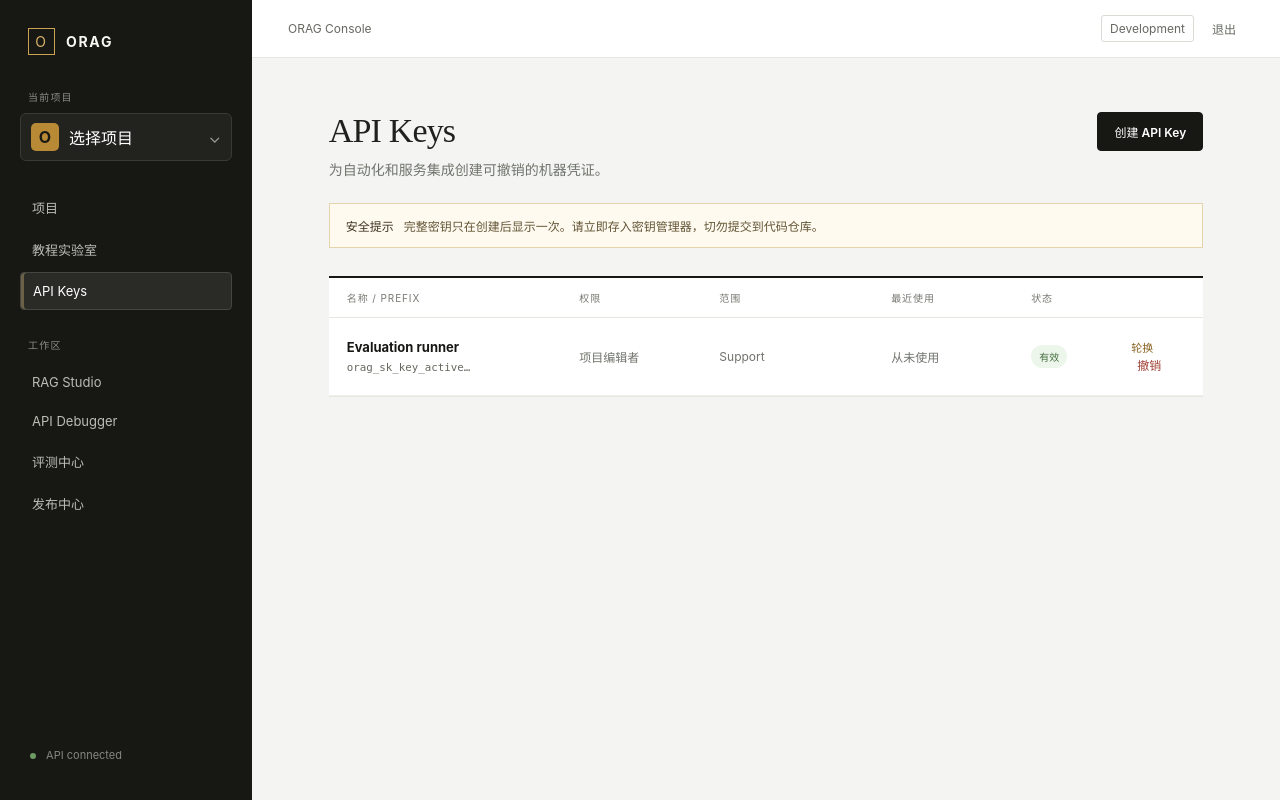
APIKeyList › shows a newly created secret once and clears it when the dialog closes
Click the button "创建 API Key".
click(1150, 132)  # box [1098, 112, 1203, 151]
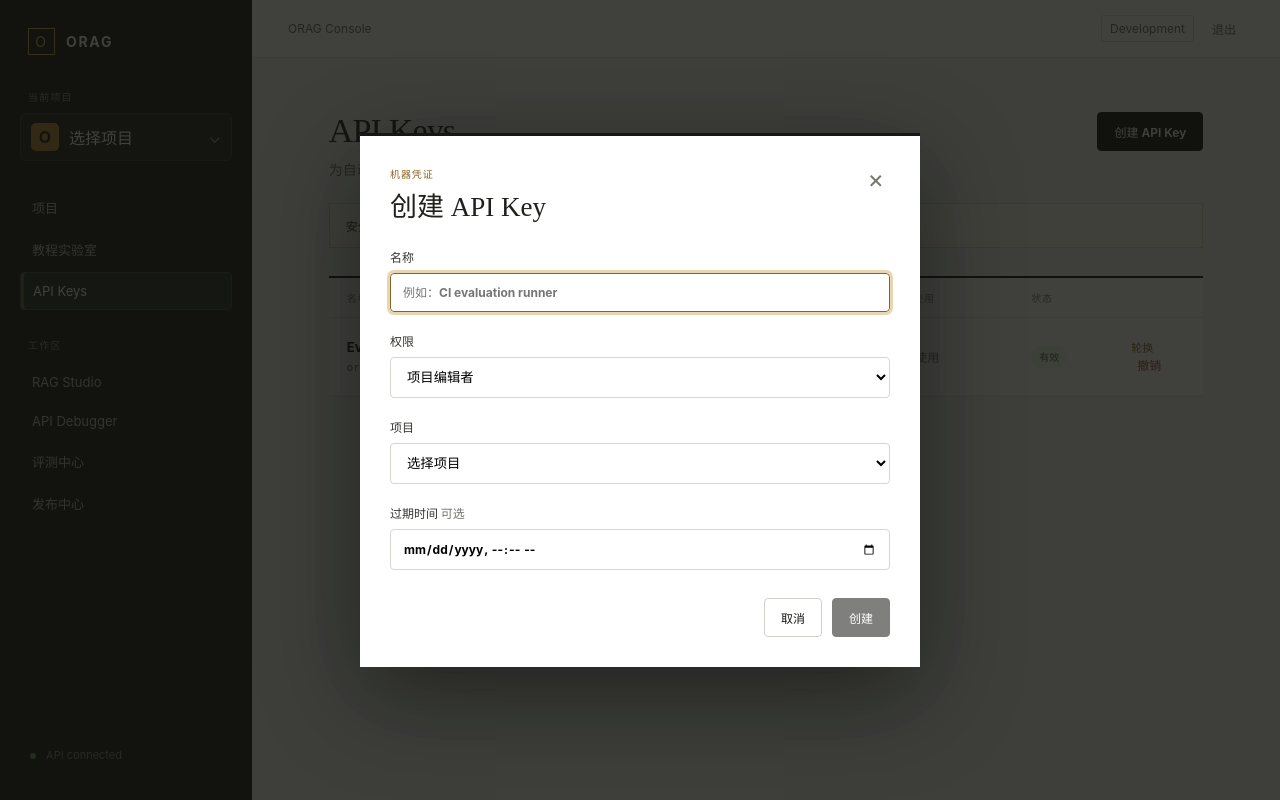
Type "CI runner" into the field labelled "名称".
click(640, 293); type("CI runner")  # box [390, 273, 890, 312]
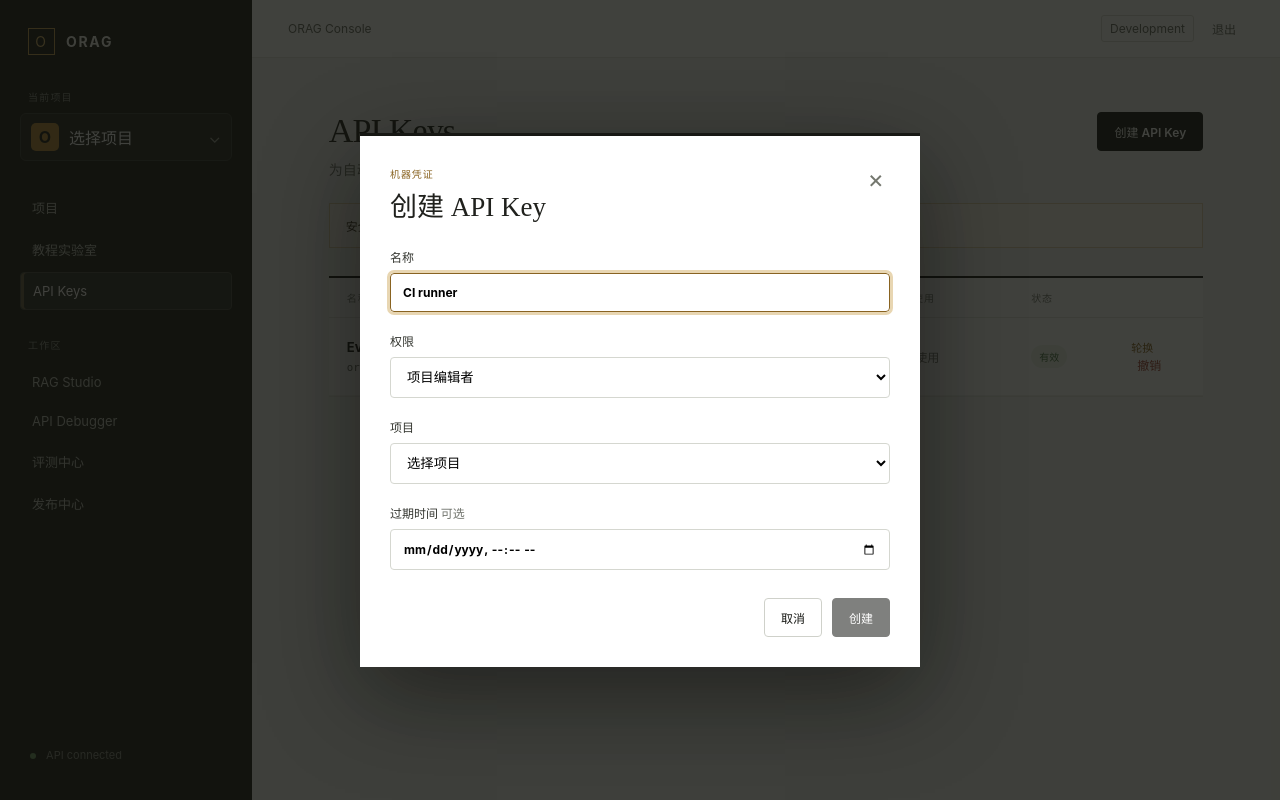
Select "Support" in the dropdown labelled "项目" at (640, 464), box [390, 443, 890, 484]
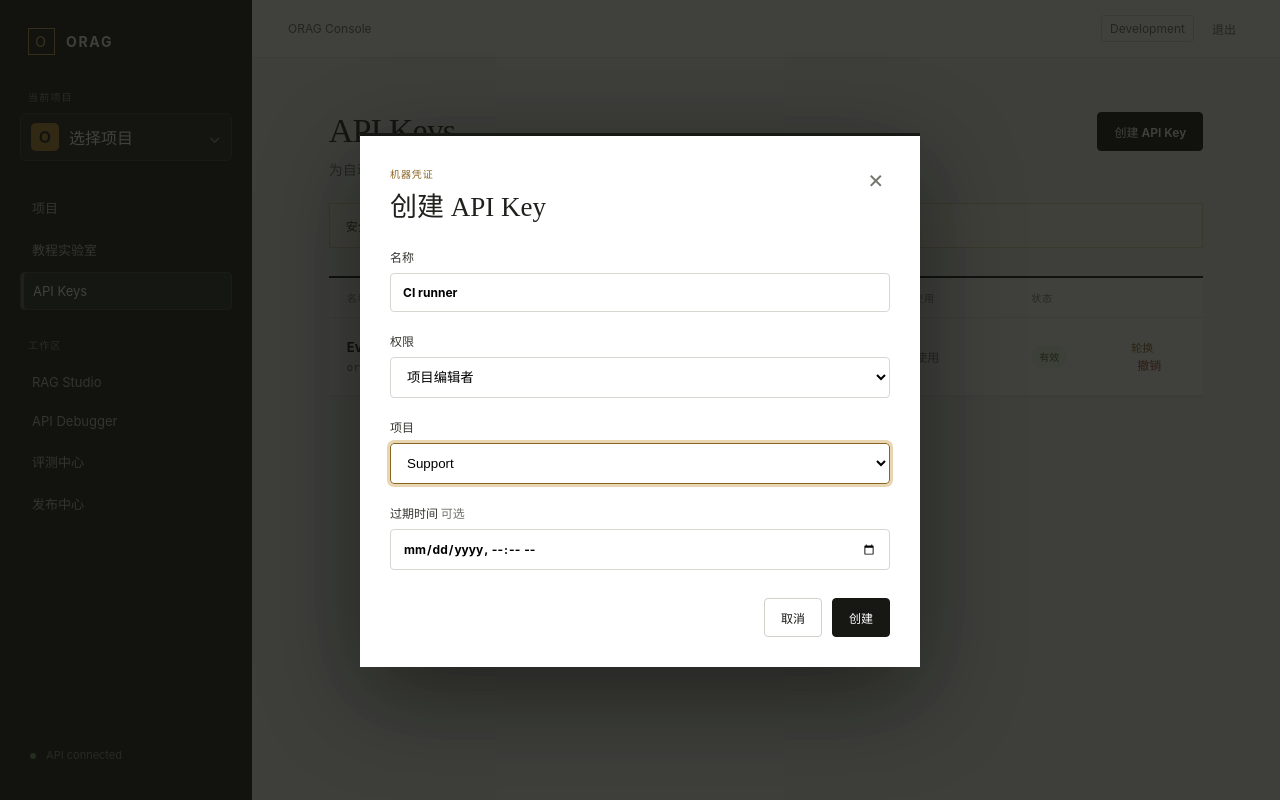
Click the button "创建".
click(861, 618)  # box [832, 598, 890, 637]
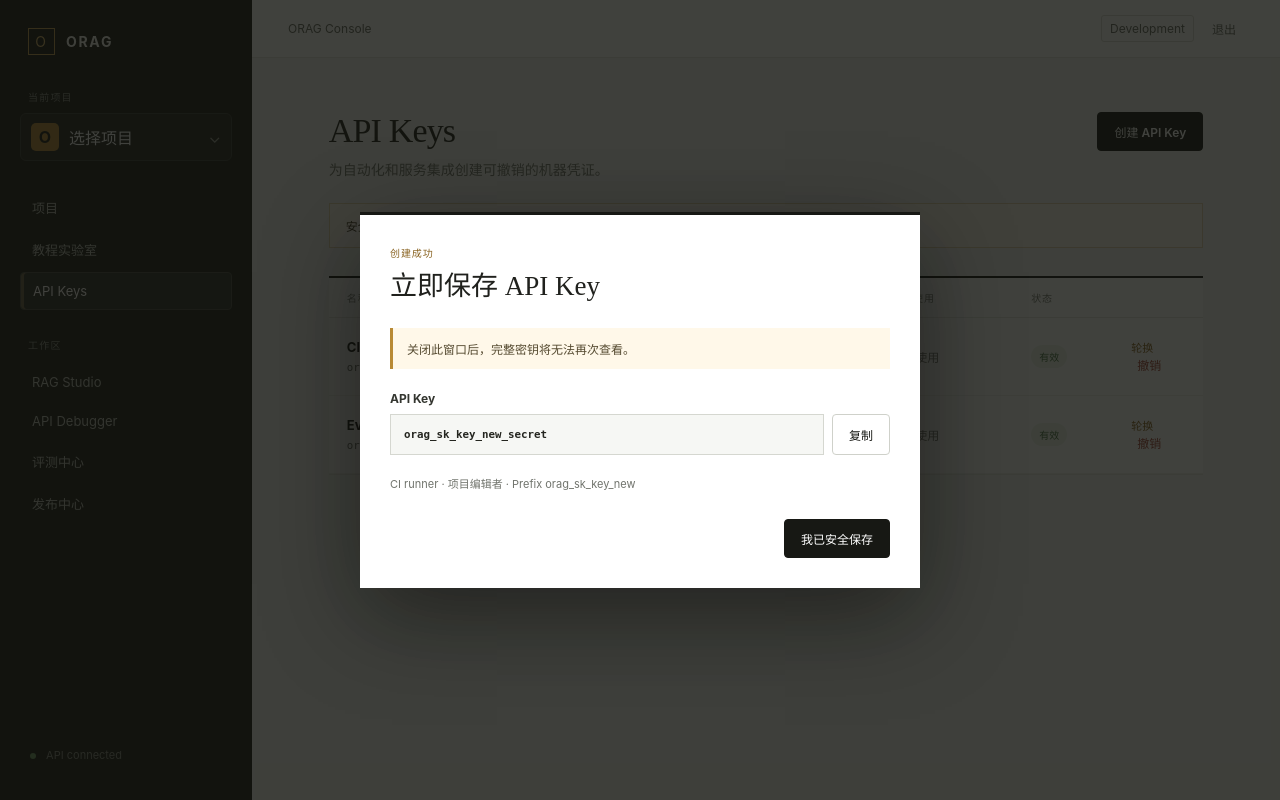
Result: the heading "立即保存 API Key" is shown at [390, 270, 600, 303]
Result: the text with test id "created-api-key-secret" reads "orag_sk_key_new_secret" at [404, 428, 547, 441]
Click the button "我已安全保存".
click(837, 538)  # box [784, 519, 890, 558]
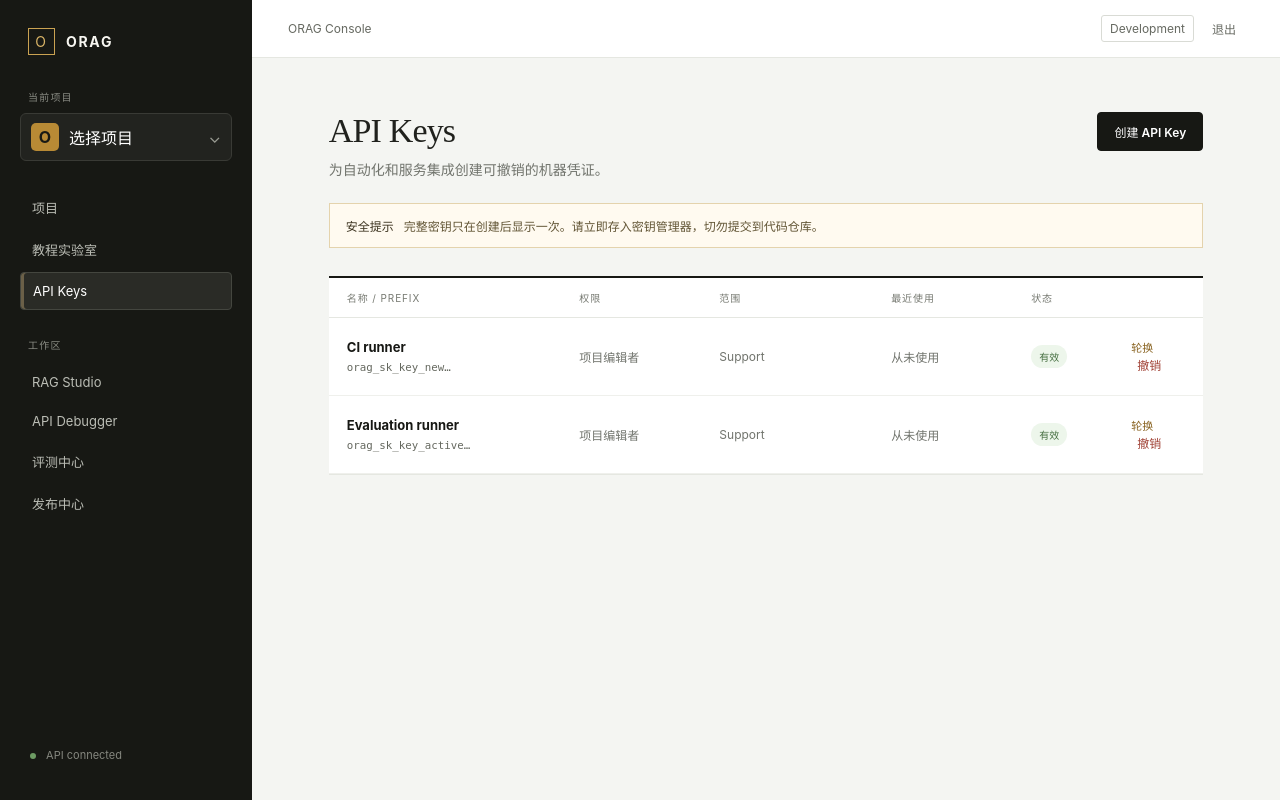
Result: the text "CI runner" is shown at [347, 339, 406, 355]
Result: the text "orag_sk_key_new_secret" is gone
